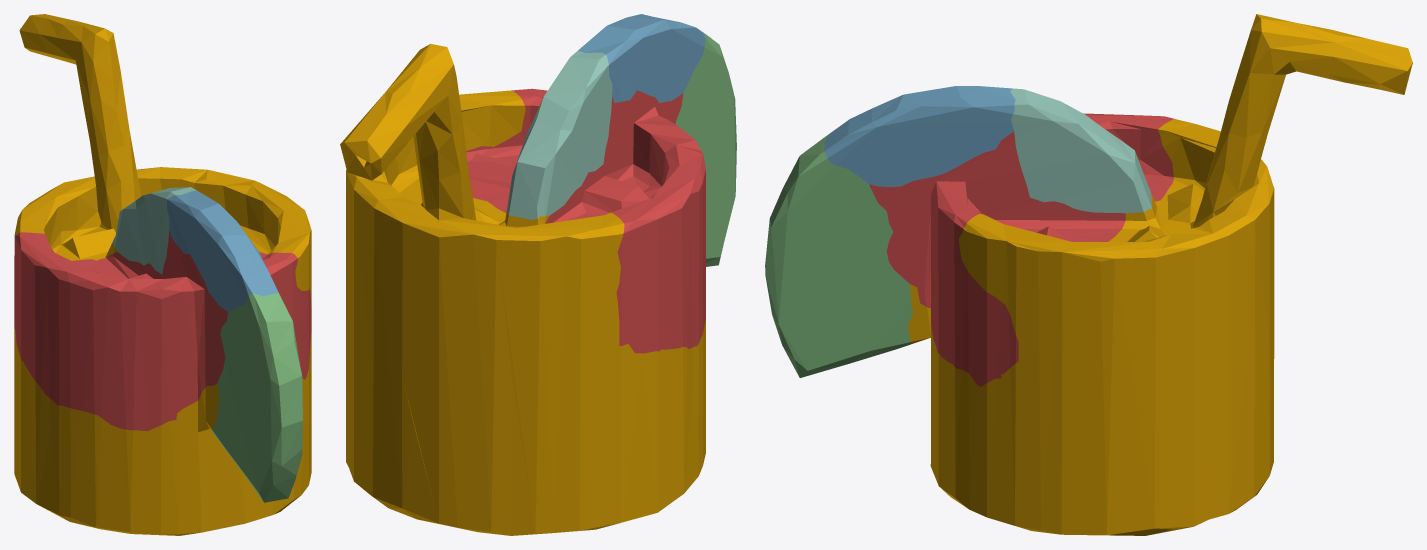
File: mode_10_6pcs.glb
3 renders of one model, left to right at view 1: azimuth 30°, elevation 25°; view 2: azimuth 150°, elevation 25°; view 3: azimuth 270°, elevation 25°, orthographic. The views are drawn at different scales.
Parts seen in each view (by area): view 1: piece_0.obj, piece_1.obj, piece_3.obj, piece_2.obj, piece_4.obj; view 2: piece_0.obj, piece_1.obj, piece_4.obj, piece_3.obj, piece_2.obj; view 3: piece_0.obj, piece_1.obj, piece_3.obj, piece_2.obj, piece_4.obj.
Part boxes in pixels (x1,y1,x2,y2): piece_0.obj: (14, 14, 311, 535); piece_1.obj: (14, 230, 311, 431); piece_3.obj: (212, 293, 302, 502); piece_2.obj: (167, 190, 280, 312); piece_4.obj: (112, 187, 196, 274); piece_0.obj: (340, 44, 705, 535); piece_1.obj: (466, 88, 705, 353); piece_4.obj: (506, 51, 612, 219); piece_3.obj: (675, 33, 736, 266); piece_2.obj: (578, 14, 705, 102); piece_0.obj: (907, 14, 1412, 535); piece_1.obj: (869, 113, 1173, 386); piece_3.obj: (765, 133, 912, 377); piece_2.obj: (824, 86, 1015, 187); piece_4.obj: (1010, 88, 1151, 213).
Bounding box in the file's own units: 0.5301 × 0.7756 × 1.
